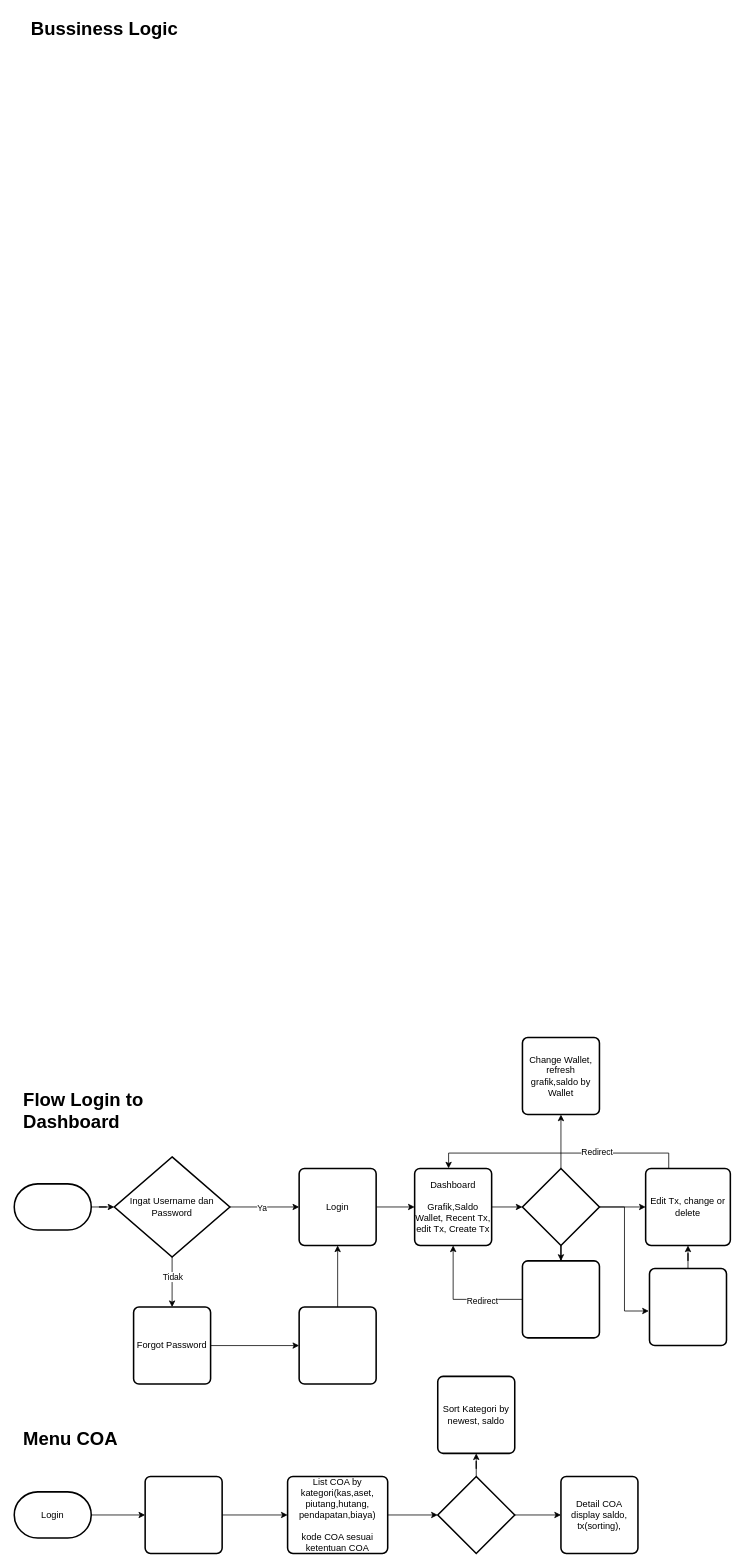
This 744x1567 diagram has some shape labels left out. Here are the shapes that lost their labels. From the top down, the centre of each, then its label:
pixel 52 1206: Buka Aplikasi
pixel 560 1299: Create Tx
pixel 687 1306: See All Tx
pixel 337 1345: Send Email
pixel 183 1514: Masuk Menu COA
